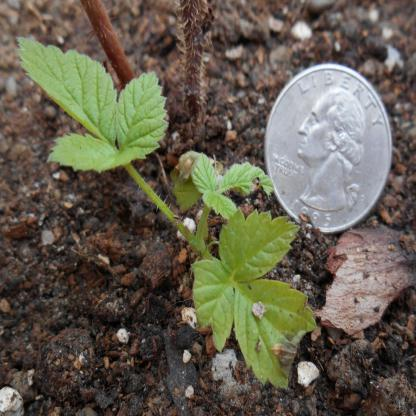Raspberry leaf: (17, 36, 122, 143), (232, 278, 324, 393), (216, 209, 296, 282), (183, 262, 239, 343), (119, 64, 168, 156), (47, 133, 136, 170)
